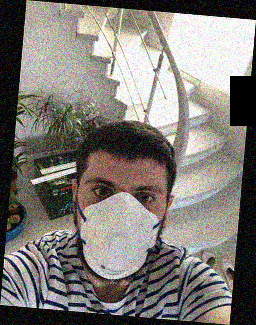with_mask: (78, 164, 165, 282)
